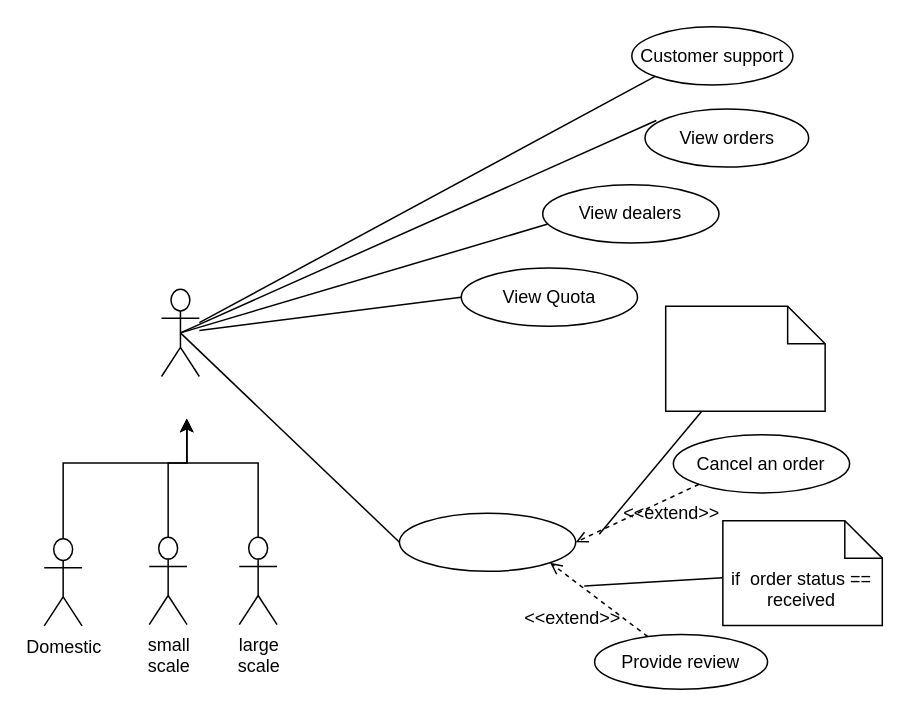
Image size: 909x716. Some labels were removed from this diagram. Each missing label, with the box of its shape:
Customer: (160, 288, 199, 376)
if order status <= accepted: (664, 305, 825, 411)
Place an order: (398, 512, 576, 571)
